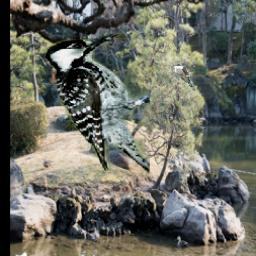Cuckoo: (171, 64, 195, 92)
Woodpecker: (45, 33, 151, 174)
